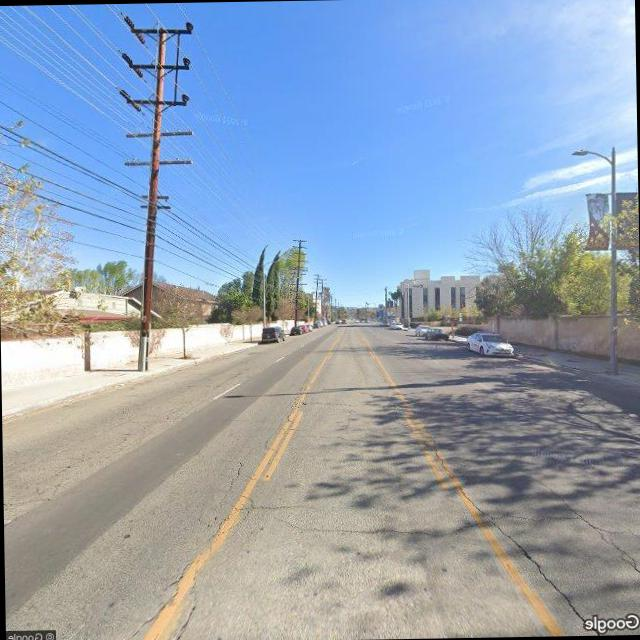crack: (142, 379, 307, 630), (420, 417, 596, 637), (515, 461, 640, 600), (245, 496, 596, 540)
